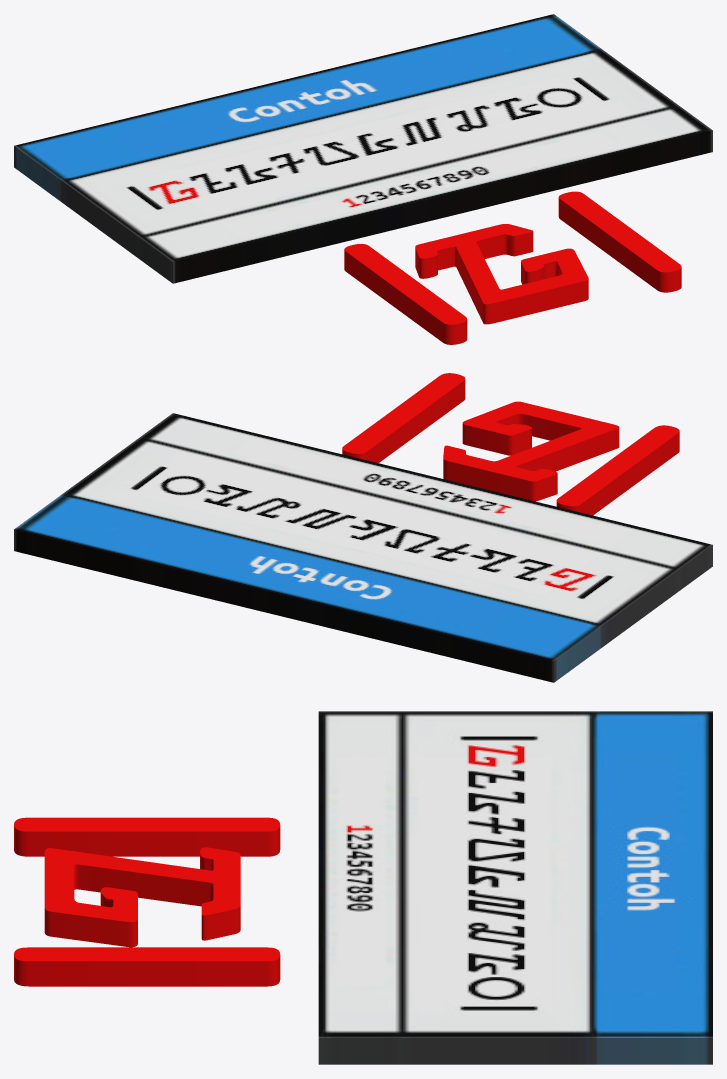
3 views of the same model, one above another, from view 1: azimuth 30°, elevation 25°; view 2: azimuth 150°, elevation 25°; view 3: azimuth 270°, elevation 25° (orthographic). The views are drawn at different scales.
Parts seen in each view (by area): view 1: contoh-1-Angka, Text; view 2: contoh-1-Angka, Text; view 3: contoh-1-Angka, Text.
Boxes of the visible parts, bbox=[...] form: contoh-1-Angka: bbox=[14, 14, 712, 283]; Text: bbox=[344, 191, 681, 344]; contoh-1-Angka: bbox=[14, 413, 712, 682]; Text: bbox=[342, 373, 679, 515]; contoh-1-Angka: bbox=[318, 711, 712, 1064]; Text: bbox=[14, 817, 280, 986].
Bounding box in the file's own units: 1.96 × 0.11 × 1.77.
Materials: 2 (1 with a texture image).
